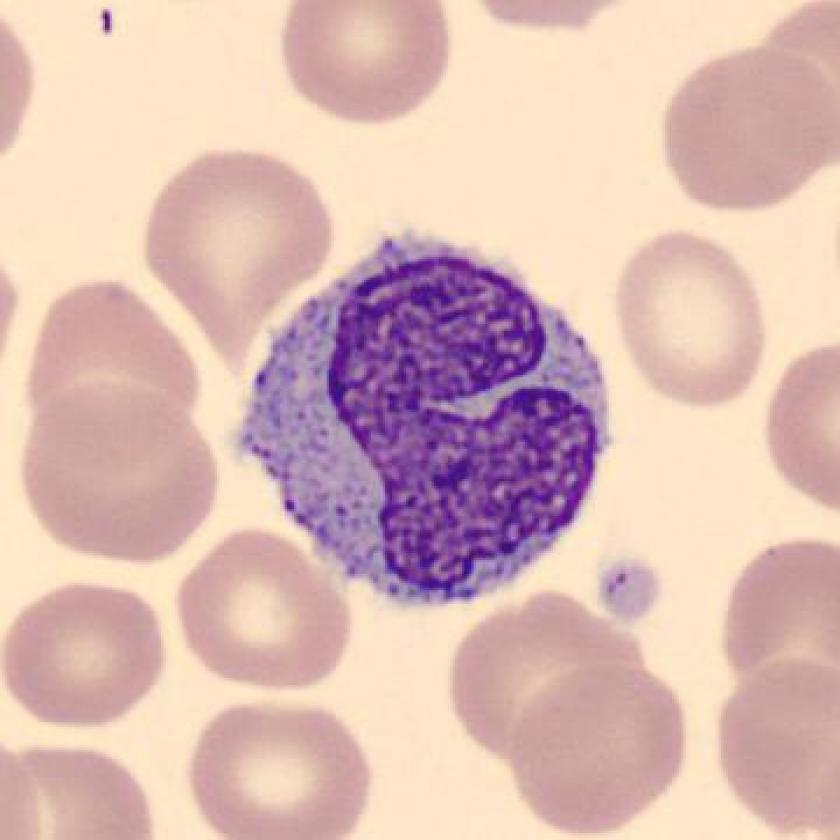monocyte: (220, 212, 631, 624)
